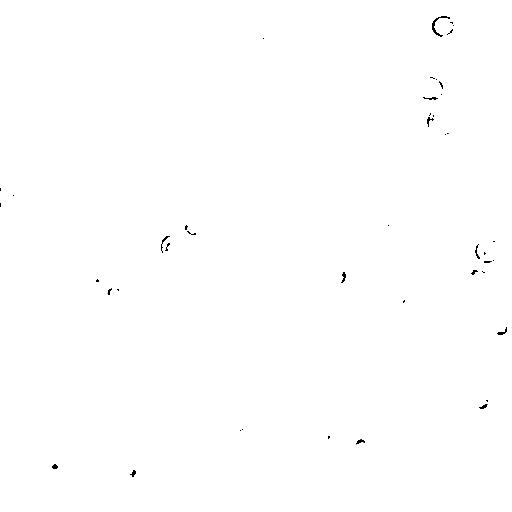micro-algae: (17, 28, 114, 125), (159, 1, 281, 65), (2, 200, 64, 325), (227, 441, 307, 511), (160, 355, 232, 425), (73, 247, 125, 295), (104, 436, 142, 475), (115, 0, 153, 29), (151, 56, 183, 89), (427, 105, 457, 139), (383, 283, 413, 313), (202, 121, 232, 149), (40, 451, 68, 481), (250, 22, 278, 51), (55, 254, 83, 283), (159, 232, 187, 261), (385, 468, 416, 492), (417, 75, 445, 101), (475, 236, 501, 264), (89, 493, 127, 512), (19, 414, 45, 439), (430, 218, 453, 246), (143, 243, 169, 267), (55, 425, 79, 451), (173, 109, 197, 133), (323, 265, 348, 287), (431, 15, 457, 36), (466, 267, 490, 289), (250, 432, 271, 457), (177, 219, 203, 237), (162, 281, 183, 303), (323, 501, 365, 511), (90, 271, 109, 293), (229, 411, 249, 431), (381, 386, 401, 405), (1, 186, 16, 209), (490, 319, 510, 335), (386, 219, 403, 237), (473, 392, 489, 411), (475, 296, 492, 313), (154, 368, 173, 383), (316, 430, 333, 446), (108, 285, 123, 303), (45, 110, 62, 125), (122, 465, 138, 480), (353, 438, 367, 455), (402, 231, 419, 245), (502, 363, 511, 382)
